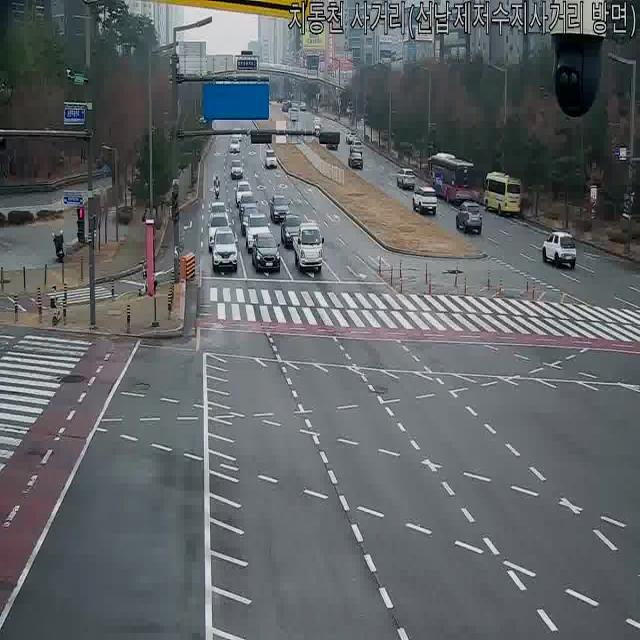Bus: (428, 153, 479, 204), (482, 172, 524, 216)
Car: (482, 172, 524, 216), (542, 230, 576, 269), (210, 228, 238, 274), (251, 232, 281, 274), (244, 213, 272, 252), (455, 201, 483, 235), (206, 215, 232, 250), (280, 214, 306, 248), (412, 186, 438, 216), (268, 195, 292, 224), (240, 207, 262, 235), (238, 192, 258, 221), (208, 201, 229, 227), (235, 180, 253, 208), (396, 168, 416, 190), (348, 146, 364, 170), (230, 158, 244, 180), (264, 149, 278, 169), (229, 138, 241, 154), (326, 134, 338, 150), (346, 130, 358, 145), (350, 139, 362, 154), (312, 118, 322, 136), (289, 106, 299, 122), (299, 101, 308, 111)
Motorcycle: (213, 175, 221, 200)
Truck: (294, 221, 324, 273)
